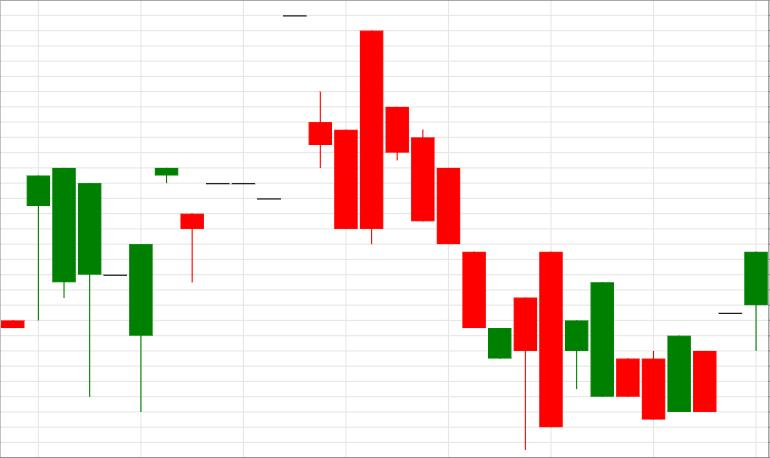hammer_rise: (361, 30, 536, 450)
